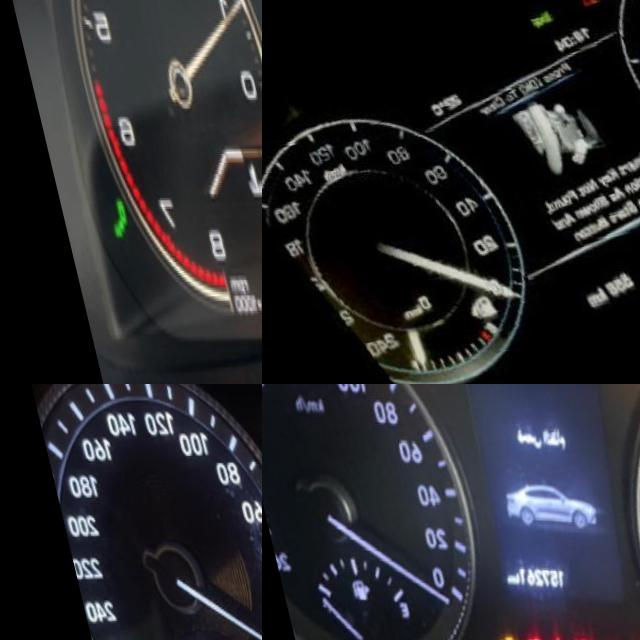Low fuel level: (445, 296, 481, 332)
